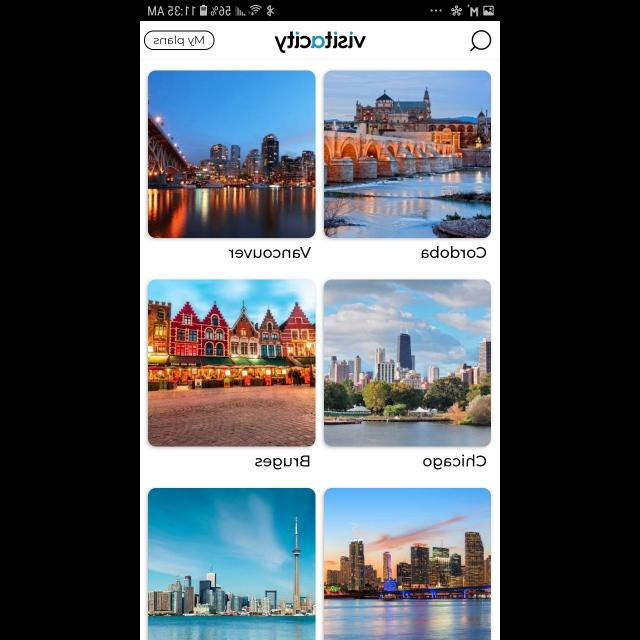icon: (469, 31, 491, 53)
image: (148, 70, 316, 238), (148, 279, 316, 446), (324, 279, 491, 446), (324, 72, 492, 238), (148, 488, 316, 640), (324, 488, 491, 640), (274, 32, 366, 54)
text: (422, 454, 486, 470), (228, 248, 312, 258), (422, 246, 486, 258), (255, 456, 309, 470)
textbutton: (143, 30, 214, 50)
uppertaskbar: (140, 1, 500, 22)
